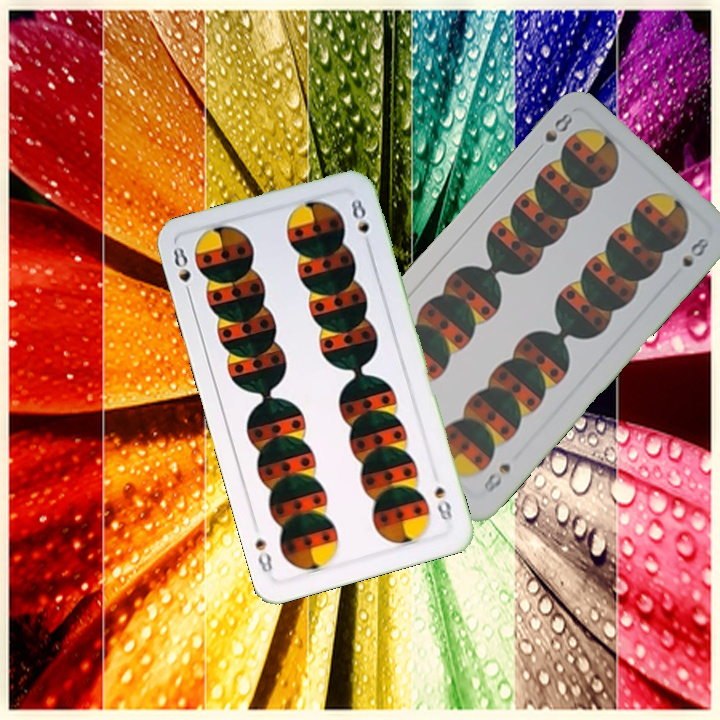S8: (531, 109, 576, 157), (169, 242, 195, 301), (480, 459, 514, 497), (430, 482, 455, 523)
